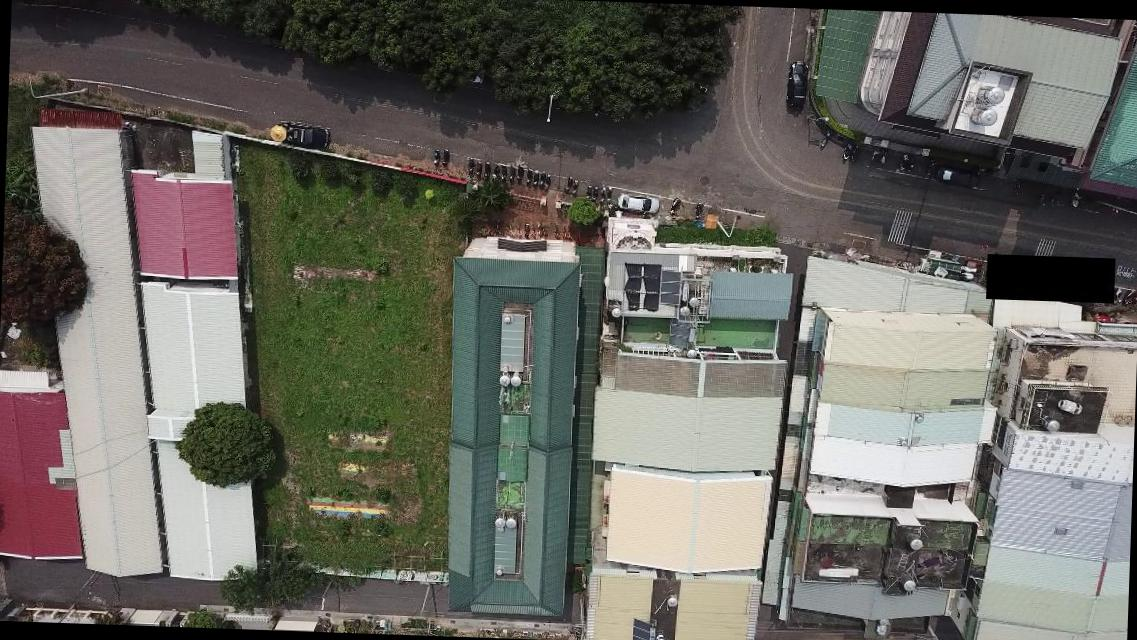vehicle: (276, 120, 330, 148), (936, 163, 980, 190), (784, 61, 809, 108), (616, 193, 660, 213)
